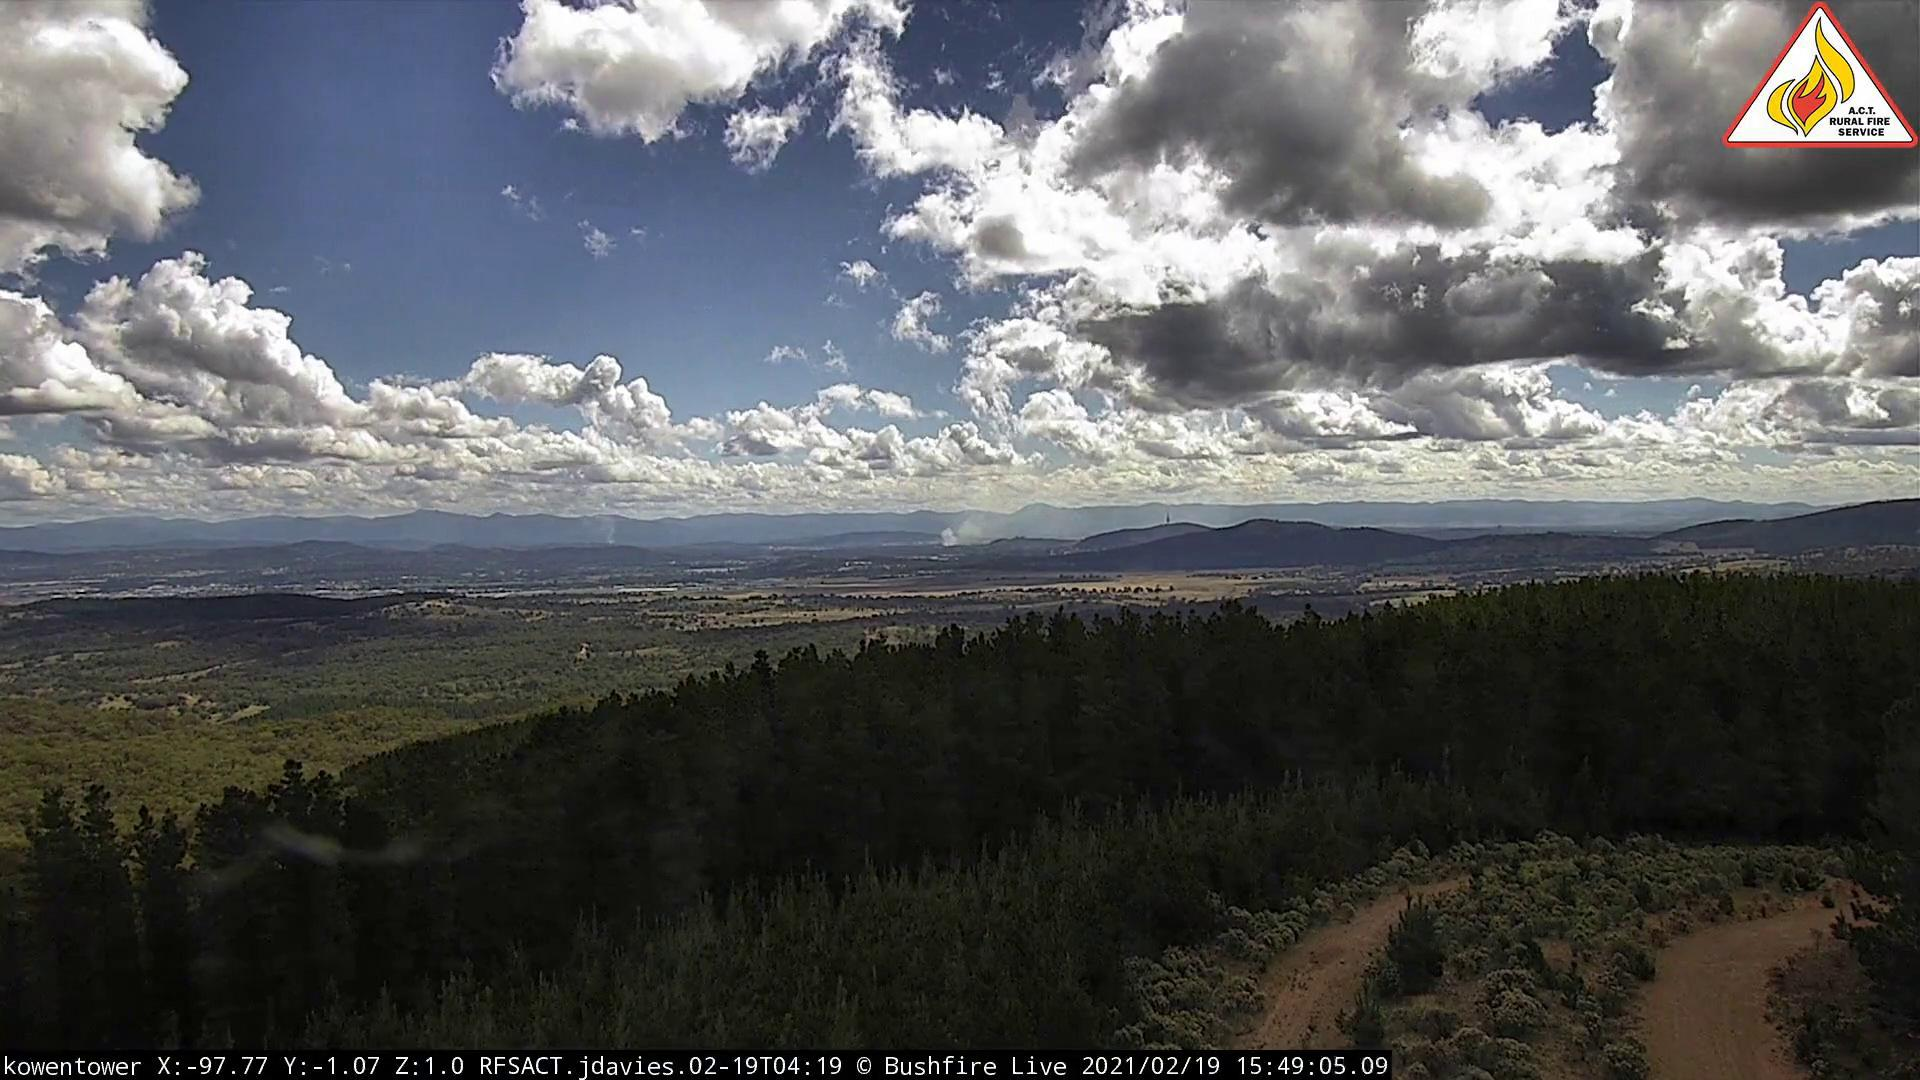Smoke: (939, 510, 1000, 549), (605, 526, 622, 550)
